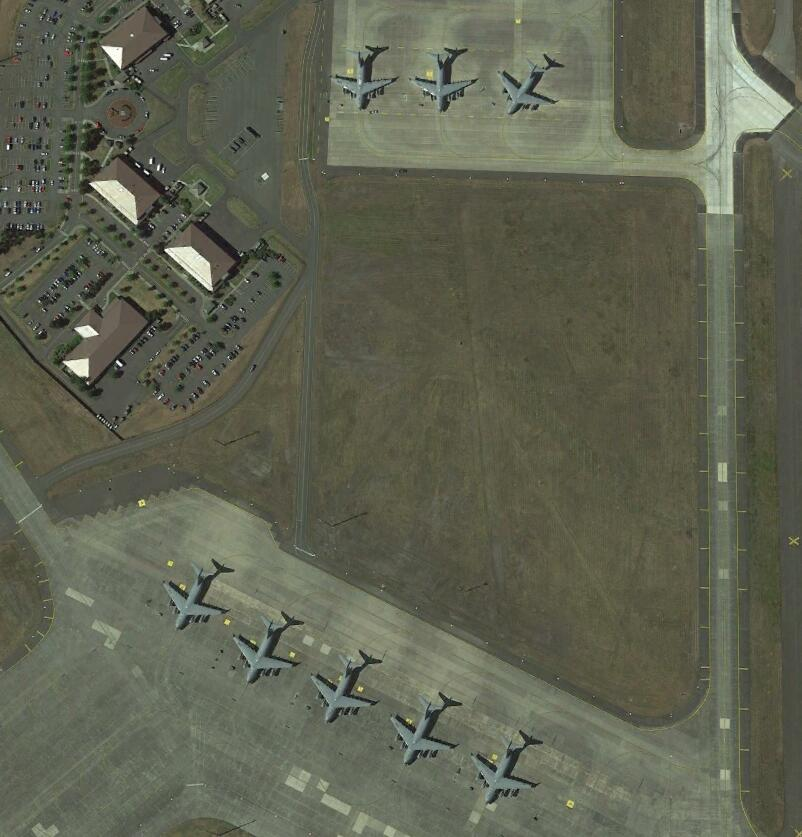A3: (387, 693, 458, 768), (229, 615, 296, 688), (310, 657, 379, 727), (161, 562, 229, 633), (473, 733, 539, 806), (410, 46, 478, 115), (330, 48, 398, 112), (495, 58, 560, 119)
